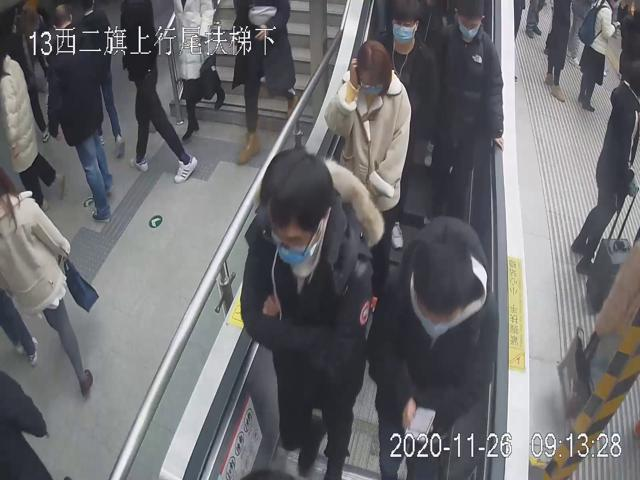person: (241, 145, 382, 480), (368, 213, 500, 480), (322, 38, 412, 217), (440, 0, 503, 209), (377, 0, 440, 205)
